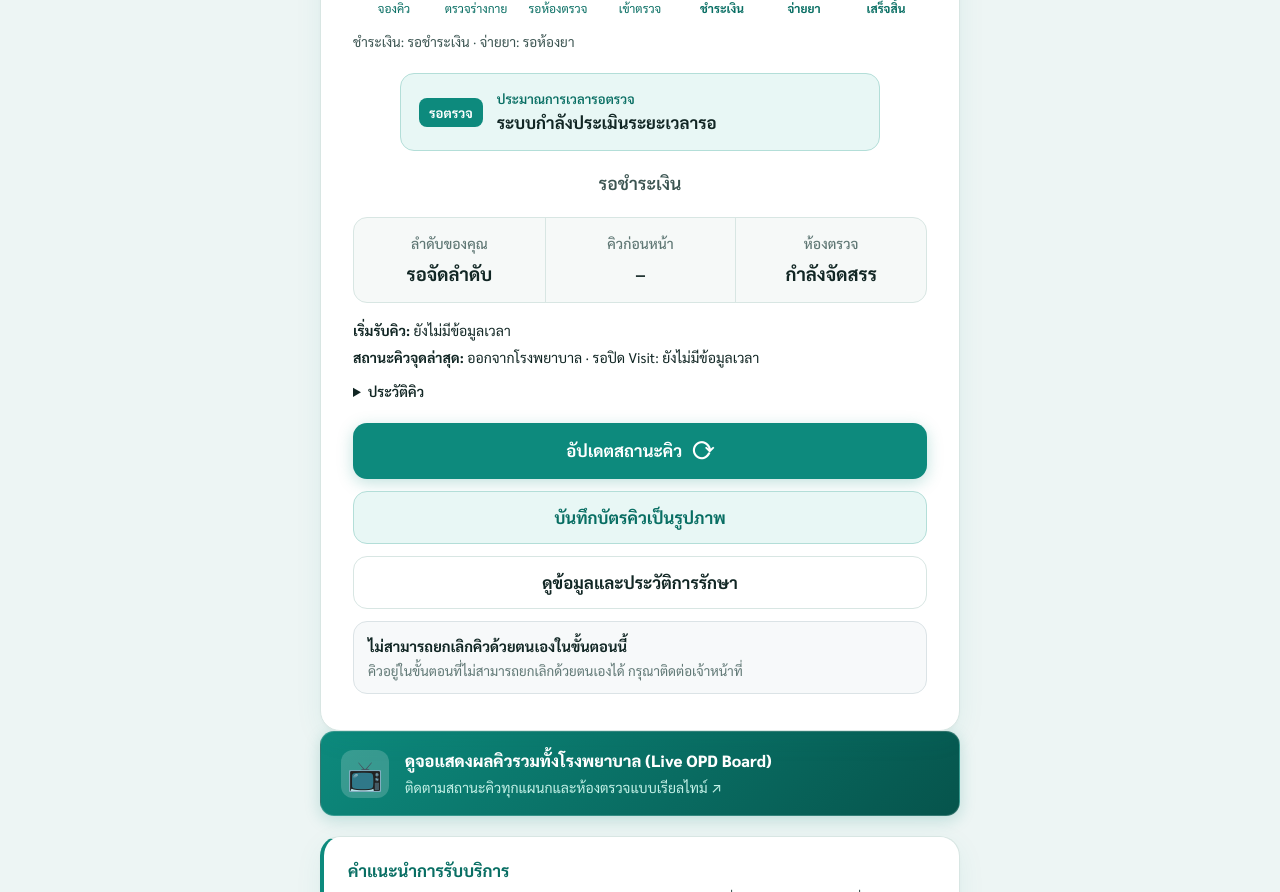
Test case: QueueStatusView › refreshes the billing and pharmacy footer from the backend journey
This screenshot has width=1280, height=892.
(page scrolled)
Expected: the text "ชำระเงิน: รอชำระเงิน · จ่ายยา: รอห้องยา" is shown, [353, 32, 574, 50]
Click the button "อัปเดตสถานะคิว ⟳": (640, 451) [353, 423, 927, 479]
(page scrolled)
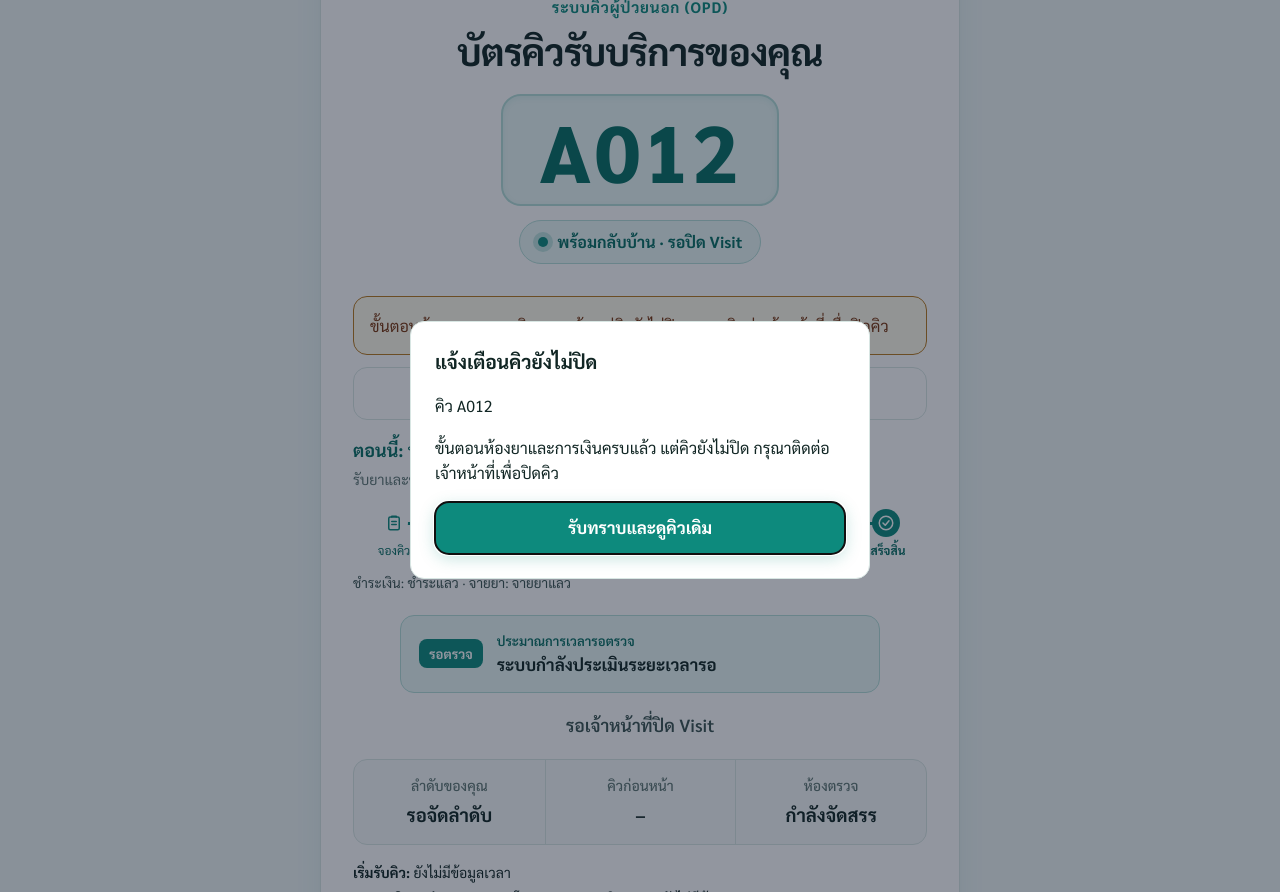
Expected: the text "ชำระเงิน: ชำระแล้ว · จ่ายยา: จ่ายยาแล้ว" is shown, [353, 573, 571, 591]
Expected: the heading "ตอนนี้: พร้อมกลับบ้าน · รอปิด Visit" is shown, [353, 438, 614, 461]
